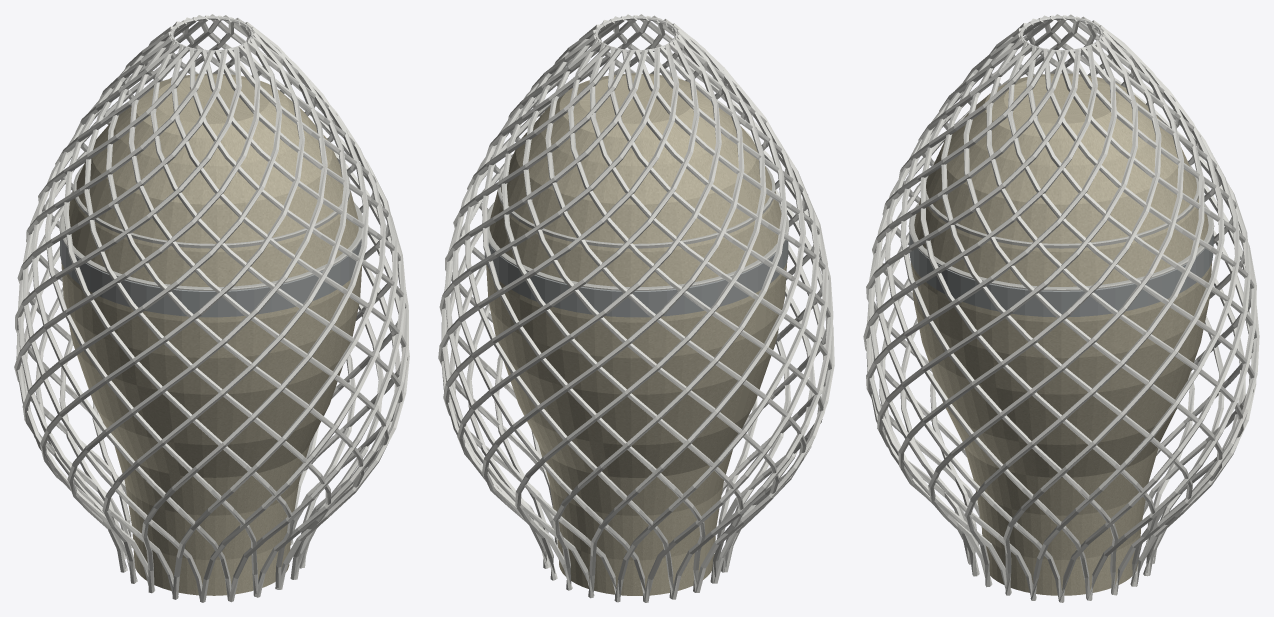
Rendered from maritime-tower-diamond-lattice-crown-far.glb.
3 views of the same model, side by side, from view 1: azimuth 30°, elevation 25°; view 2: azimuth 150°, elevation 25°; view 3: azimuth 270°, elevation 25° (orthographic).
Visible parts, largest first — view 1: 徐汇滨江海事瞭望塔塔冠的交叉菱格外网; view 2: 徐汇滨江海事瞭望塔塔冠的交叉菱格外网; view 3: 徐汇滨江海事瞭望塔塔冠的交叉菱格外网.
Boxes of the visible parts, x1,y1,x2,y2 form: 徐汇滨江海事瞭望塔塔冠的交叉菱格外网: (14,14,409,602); 徐汇滨江海事瞭望塔塔冠的交叉菱格外网: (438,14,834,602); 徐汇滨江海事瞭望塔塔冠的交叉菱格外网: (863,14,1259,602).
Size of the model in its own units: 2.25 by 3.34 by 2.25.
Materials: 5 (1 with a texture image).
